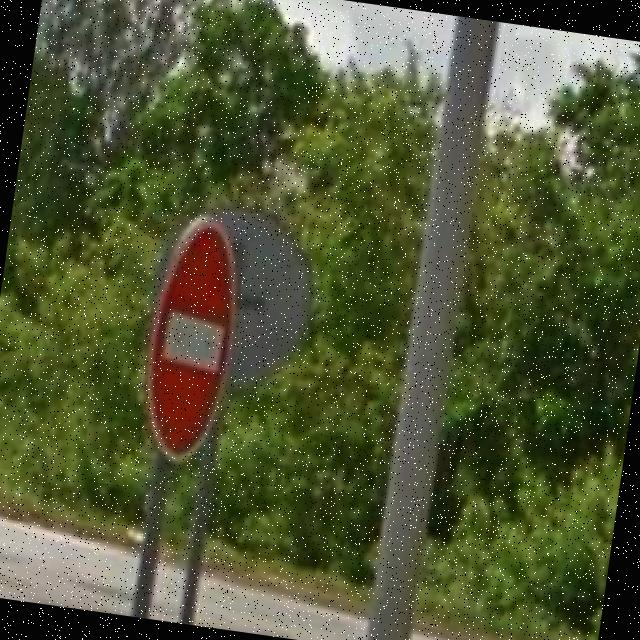Zakaz wjazdu: (132, 212, 252, 472)
